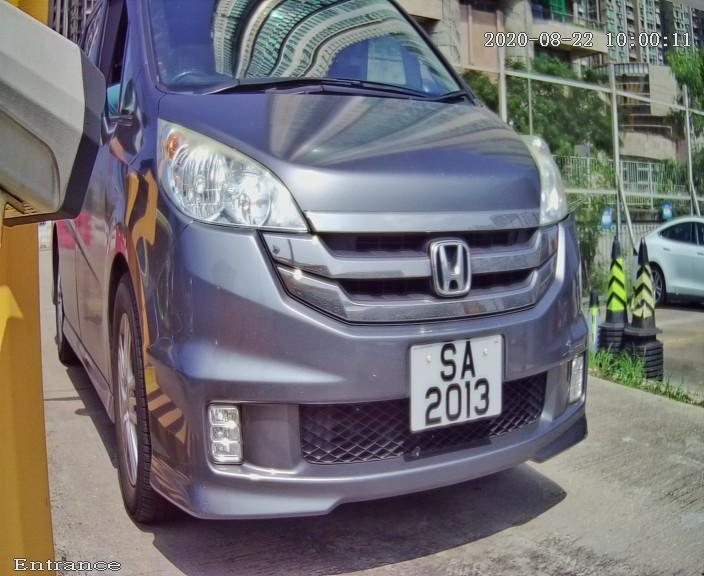License Plate: (403, 322, 507, 440)
